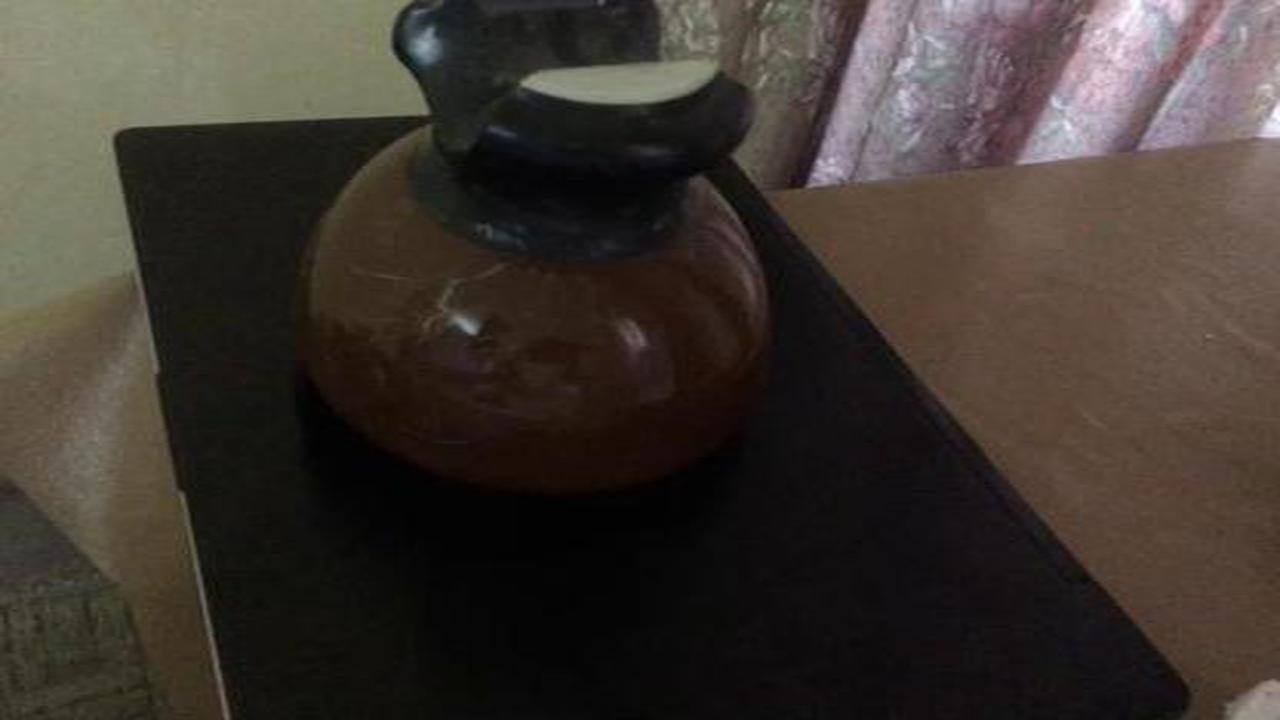insulator_pin: (274, 2, 797, 494)
